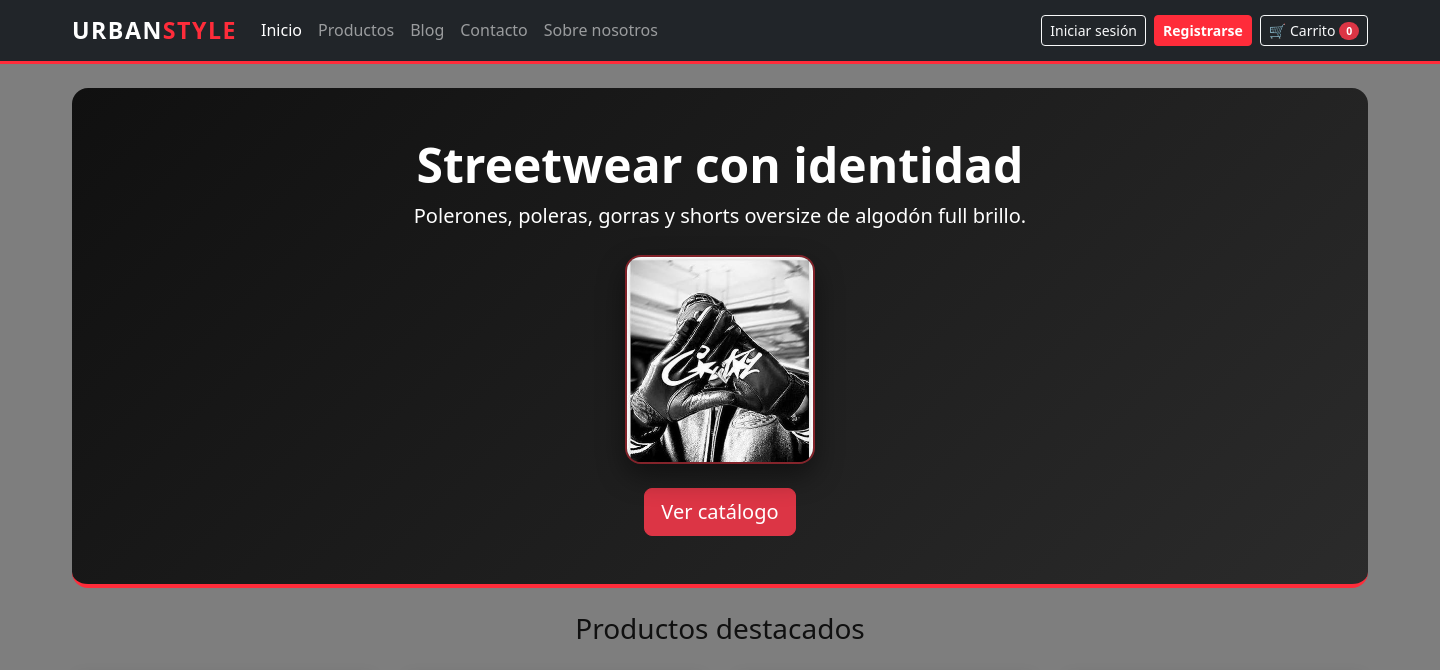
Test case: App (integración: navegación y rutas) › APP-04: navegar con el menú cambia de página sin recargar
Click the link "Contacto" at (494, 30), box [460,19,528,41]
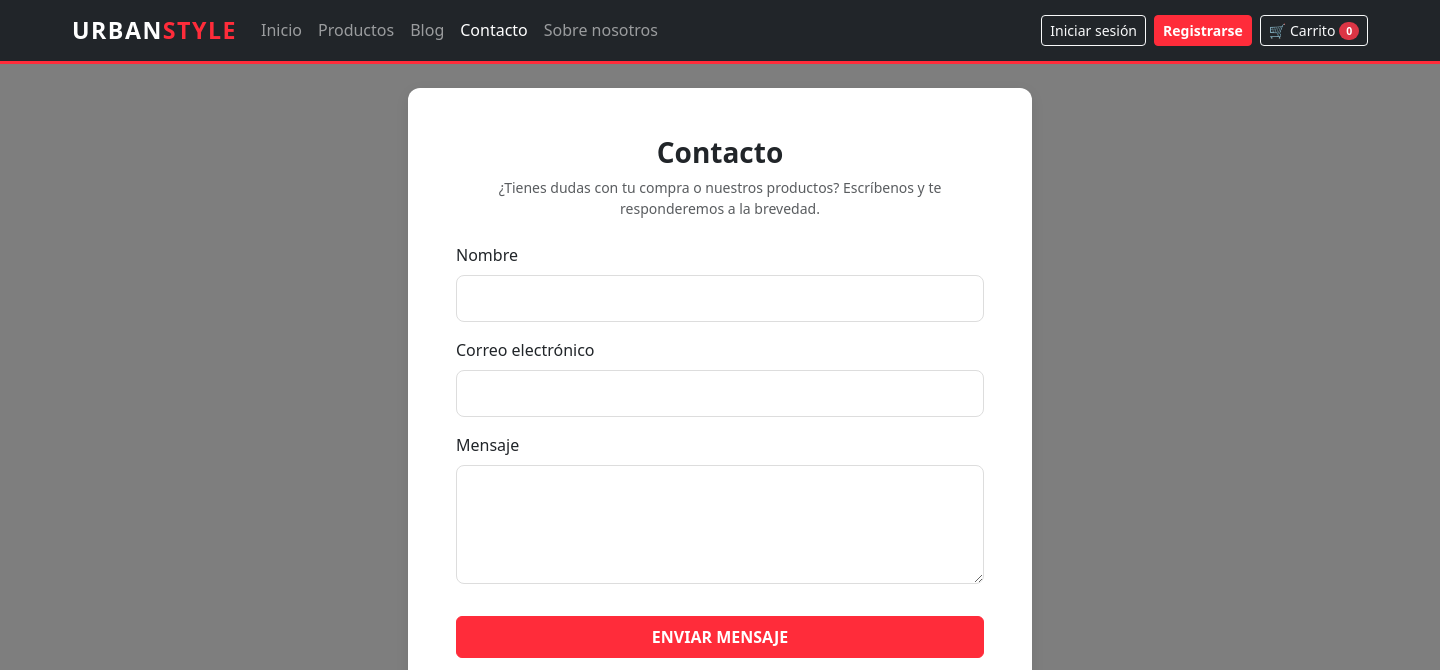
expect the heading "Contacto" is shown: met, box [657,133,783,171]
